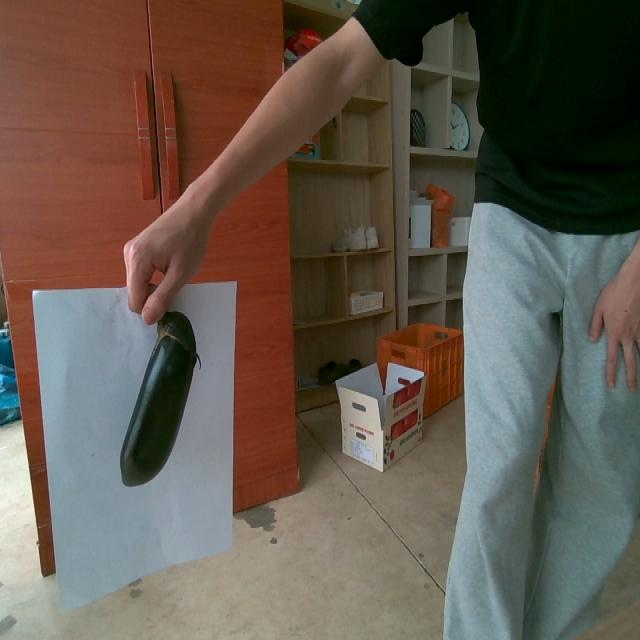Egg plant: (120, 312, 200, 485)
